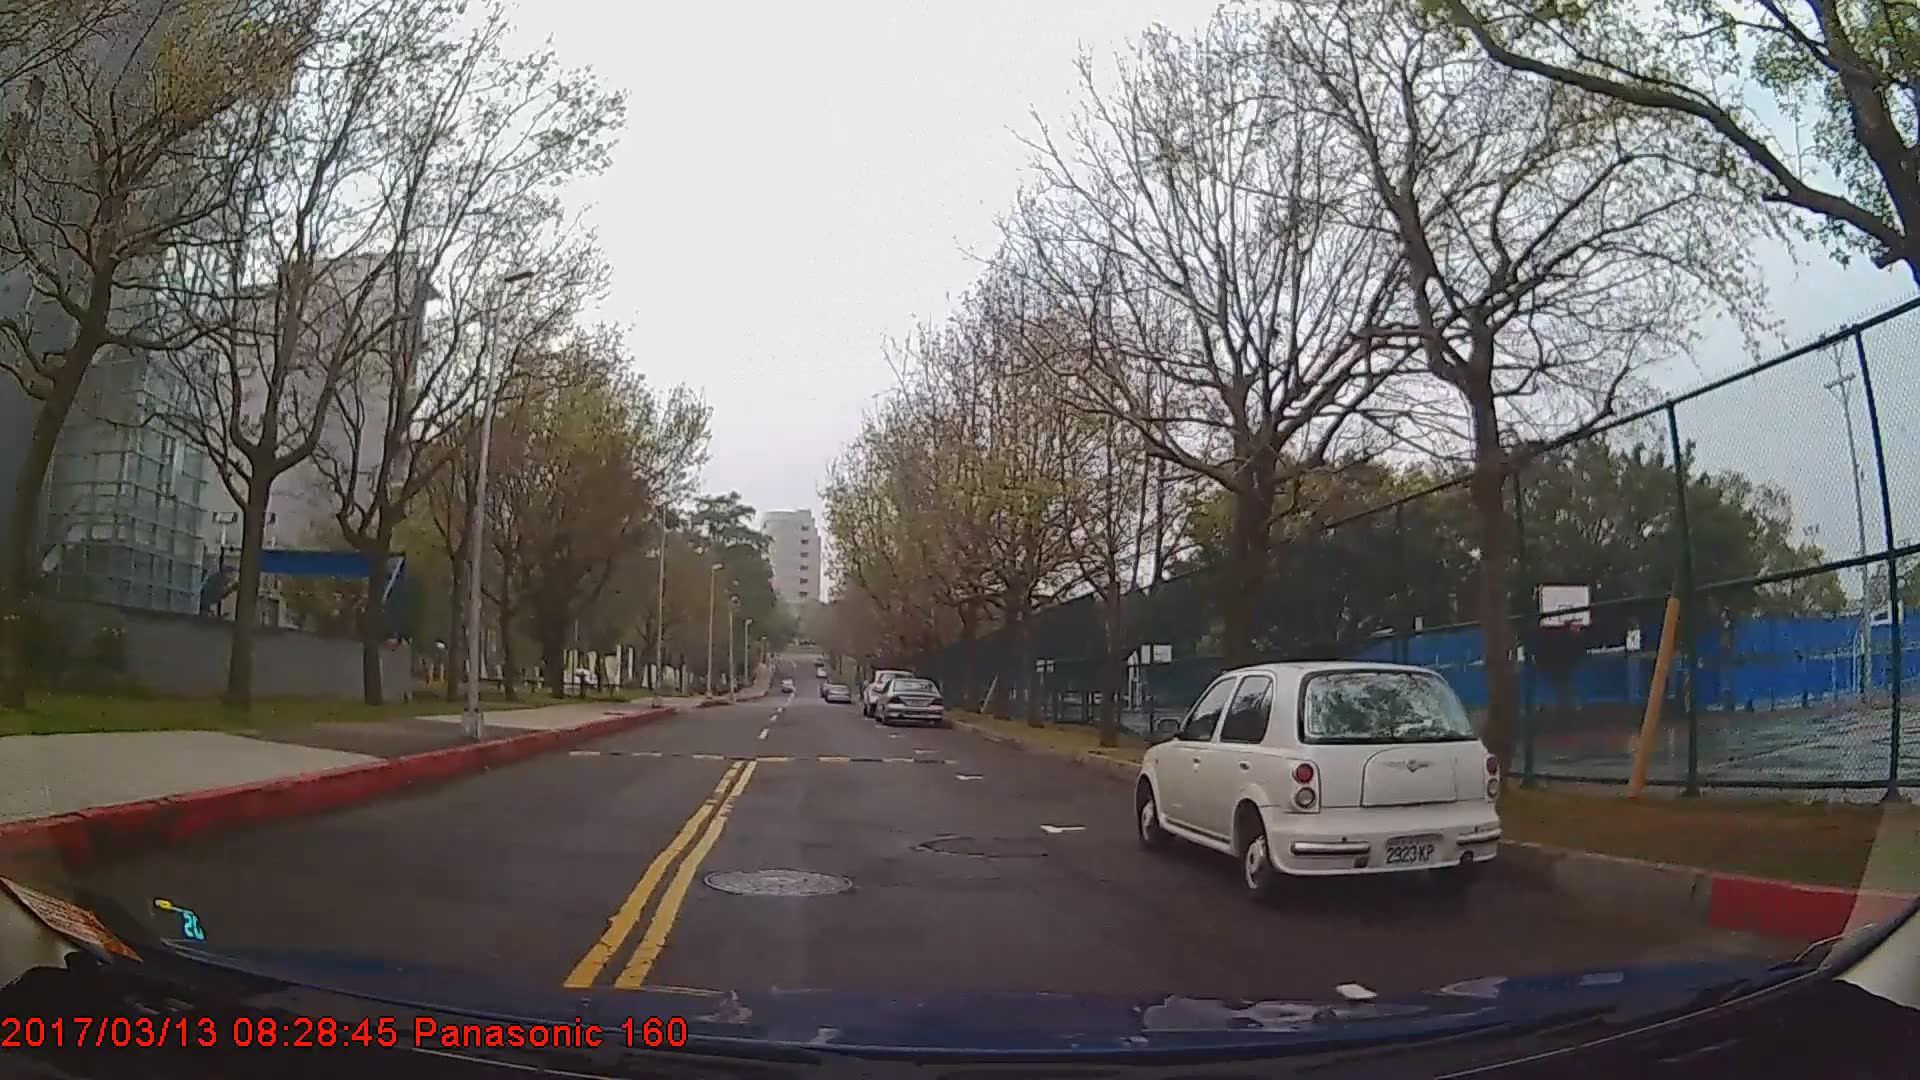vehicle: (1131, 658, 1507, 909), (873, 674, 944, 724)
